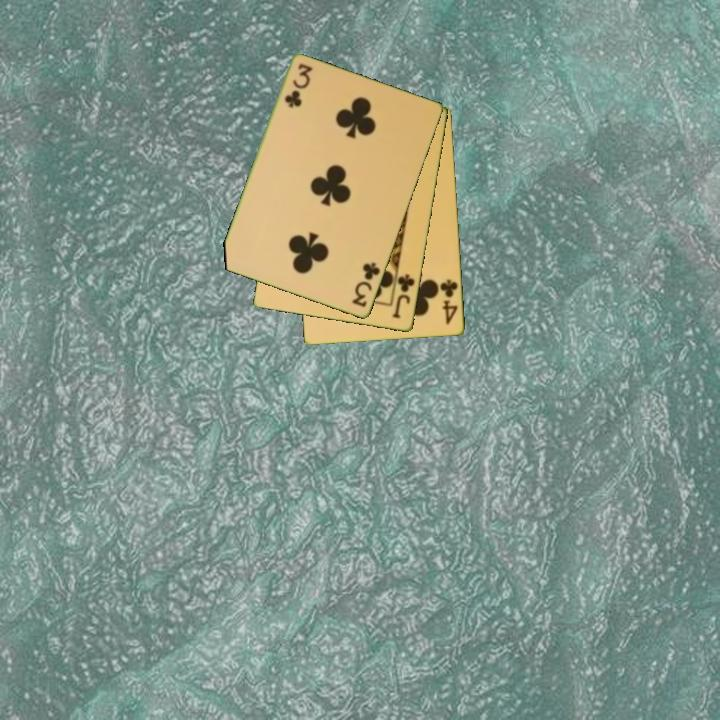3c: (348, 259, 383, 310), (281, 60, 314, 111)
4c: (437, 276, 461, 327)
Jc: (389, 271, 418, 322)
